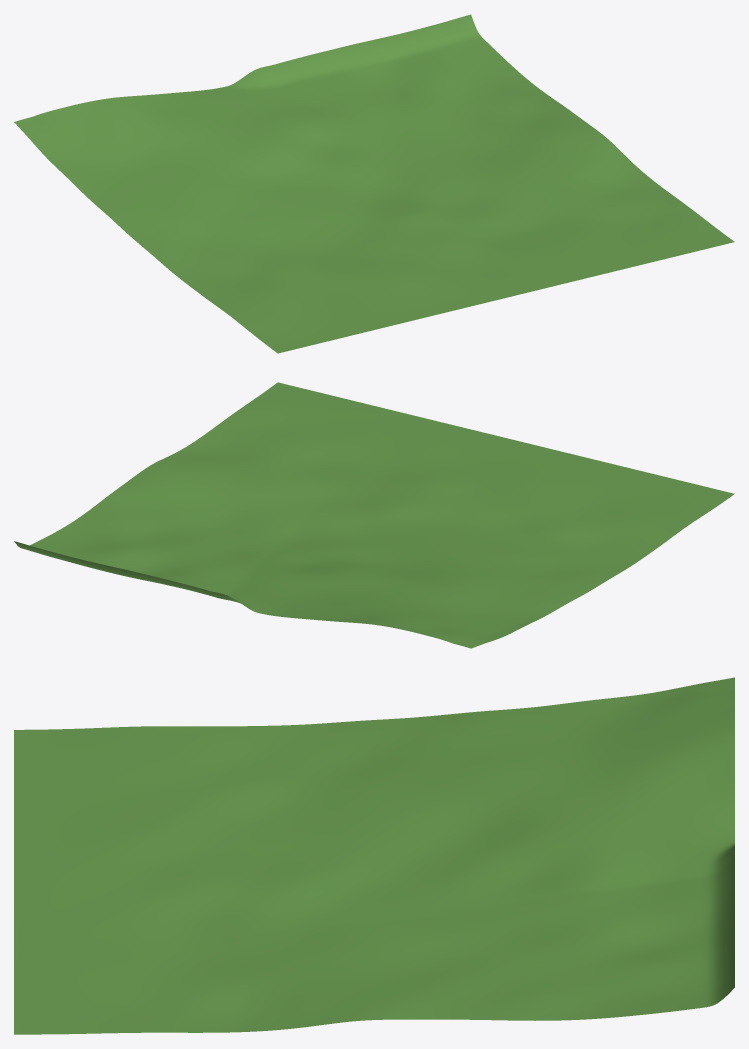
The model's file is SM_Terrain_03_07.fbx.
The picture shows the model from 3 angles, top to bottom: view 1: azimuth 30°, elevation 25°; view 2: azimuth 150°, elevation 25°; view 3: azimuth 270°, elevation 25°; orthographic projection. The views are drawn at different scales.
Visible parts, largest first — view 1: SM_Terrain_03_07; view 2: SM_Terrain_03_07; view 3: SM_Terrain_03_07.
Part boxes in pixels (x1,y1,x2,y2): SM_Terrain_03_07: [14, 14, 734, 353]; SM_Terrain_03_07: [14, 382, 734, 648]; SM_Terrain_03_07: [14, 677, 734, 1034].
Size of the model in its own units: 384 by 33.5 by 384.
